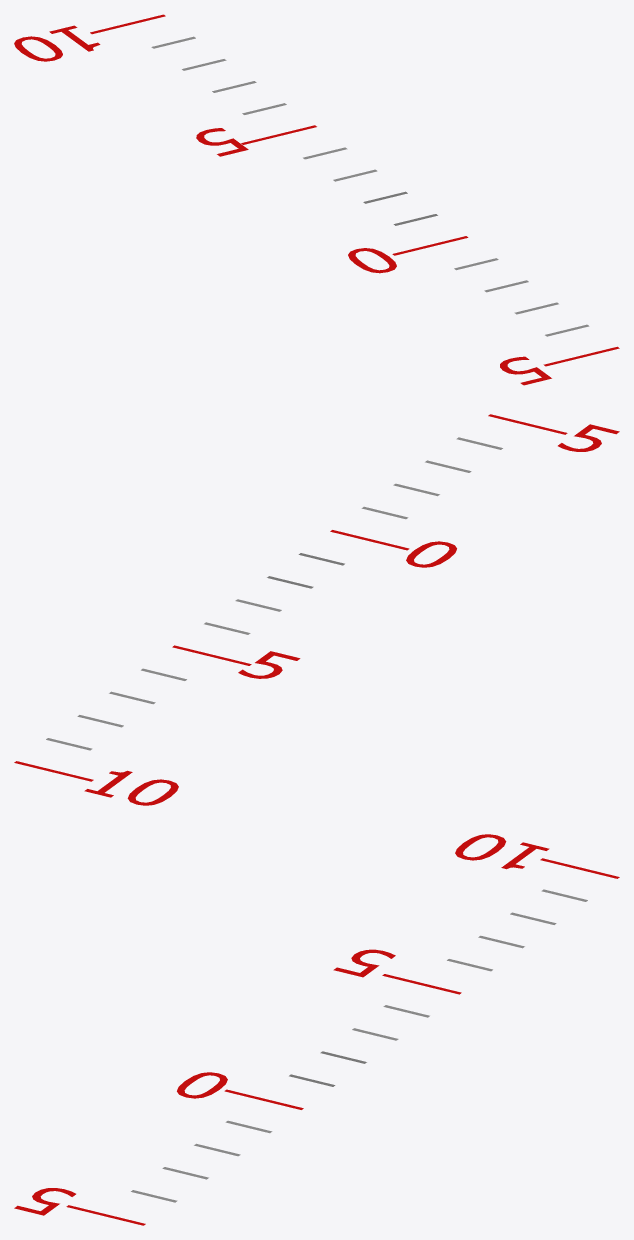
The model's file is upperparts_4.obj.
3 views of the same model, one above another, from view 1: azimuth 30°, elevation 25°; view 2: azimuth 150°, elevation 25°; view 3: azimuth 330°, elevation 25° (orthographic). The views are drawn at different scales.
Bounding box in the file's own units: 2.79 × 0.1 × 15.92.
